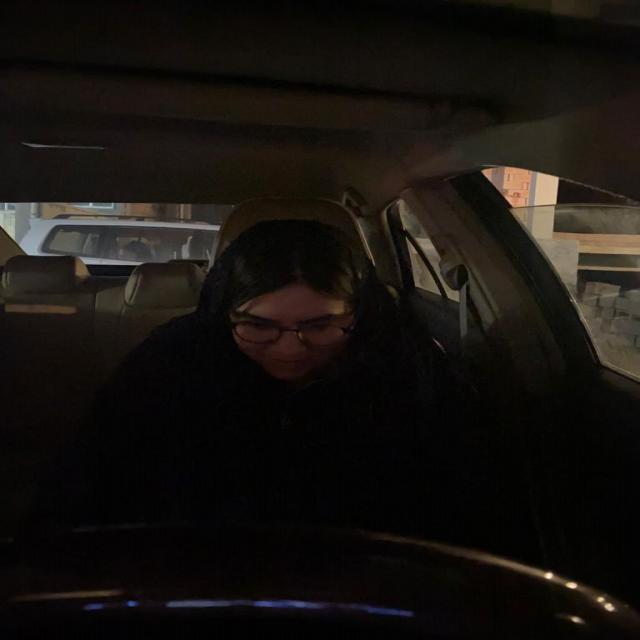drowsy: (215, 232, 370, 381)
